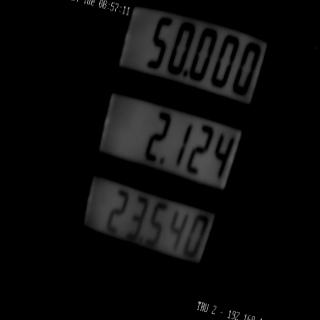screen: (61, 0, 282, 287)
